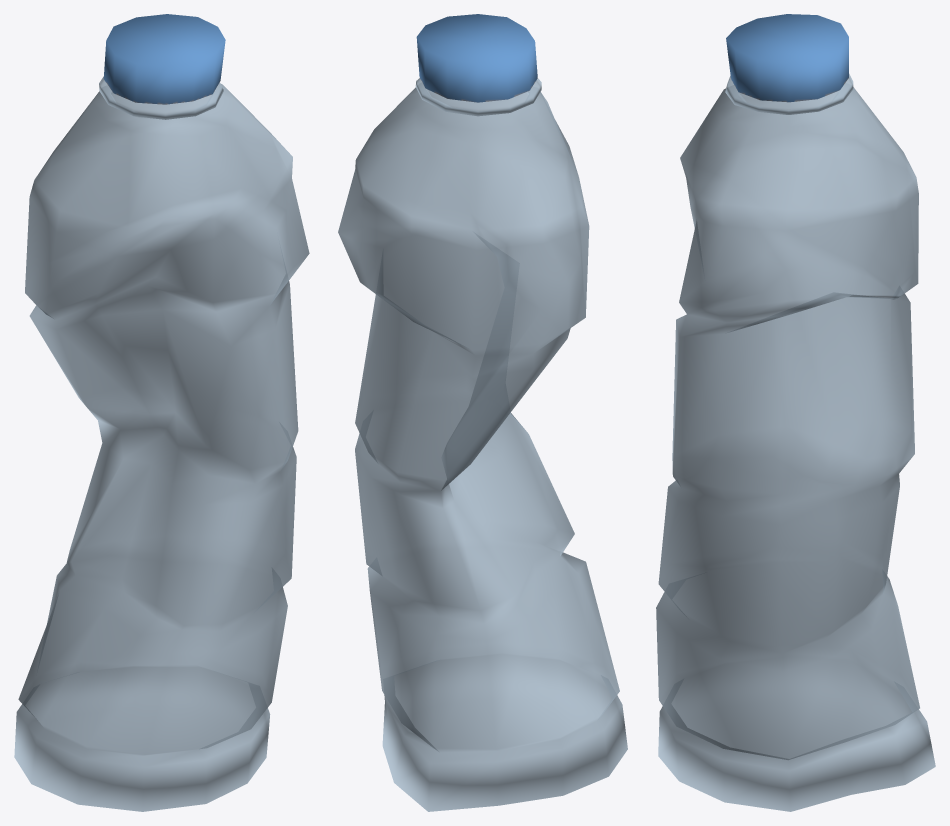
File: bottle1.glb
3 views of the same model, side by side, from view 1: azimuth 30°, elevation 25°; view 2: azimuth 150°, elevation 25°; view 3: azimuth 270°, elevation 25° (orthographic). The views are drawn at different scales.
Parts seen in each view (by area): view 1: Bottle1_LP; view 2: Bottle1_LP; view 3: Bottle1_LP.
Boxes of the visible parts, bbox=[...] form: Bottle1_LP: bbox=[14, 14, 309, 811]; Bottle1_LP: bbox=[338, 14, 627, 811]; Bottle1_LP: bbox=[656, 14, 935, 811].
Size of the model in its own units: 0.0175 by 0.0474 by 0.0162.
1 material, 1 textured.
